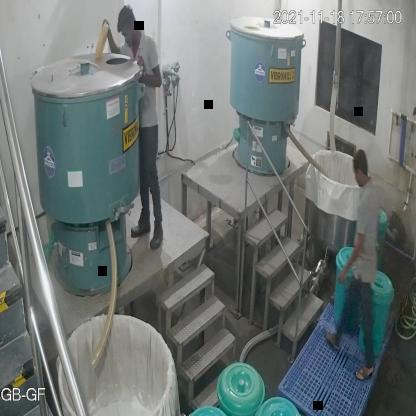no_shoes: (355, 366, 374, 384)
